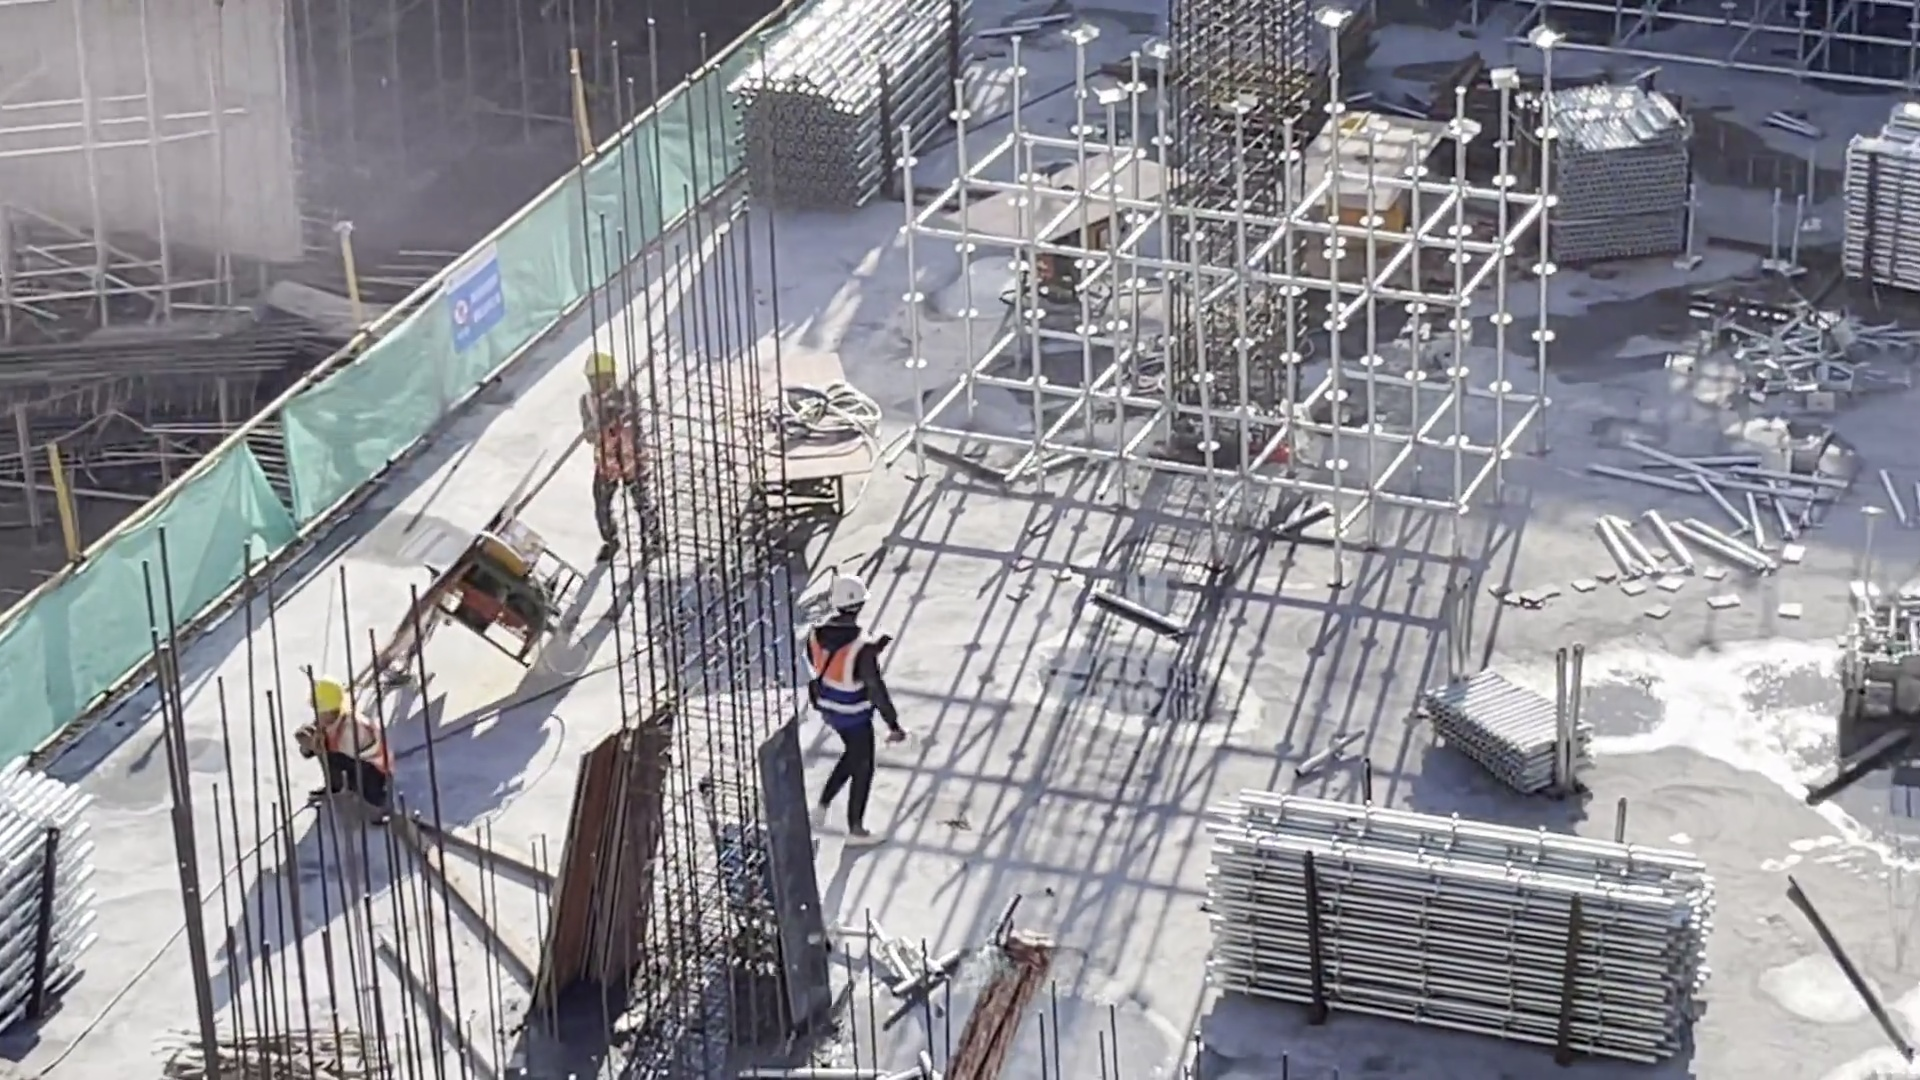board: (553, 712, 661, 989)
cutter: (378, 463, 610, 663), (952, 145, 1191, 297), (706, 348, 881, 539), (1264, 106, 1441, 260)
helmet: (829, 569, 870, 611), (584, 348, 622, 387), (312, 680, 343, 720)
person: (797, 571, 903, 861), (566, 350, 685, 572), (299, 680, 415, 819)
scaffold: (1207, 780, 1694, 1068), (740, 1, 961, 227), (1509, 74, 1719, 270), (1, 722, 124, 1012), (1430, 650, 1585, 788), (1821, 115, 1920, 294), (1743, 309, 1883, 412), (1815, 589, 1918, 723)
slogan: (434, 222, 526, 361)
vest: (808, 624, 876, 721), (589, 403, 651, 475)
